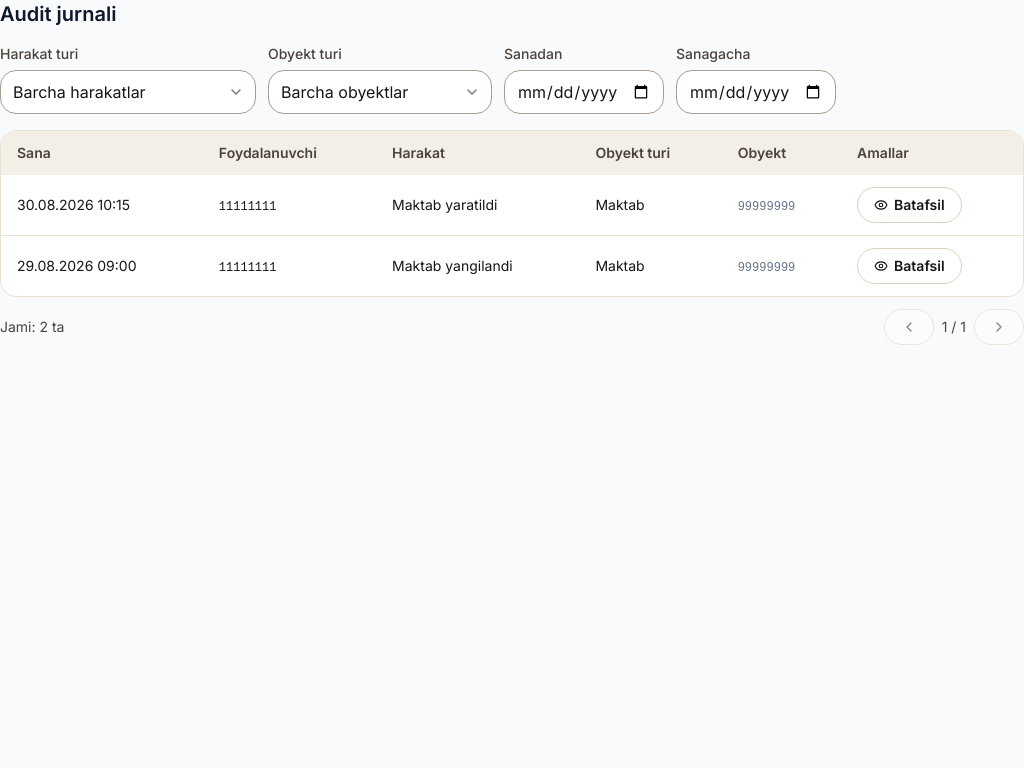
Test: AuditLogPage › 'Batafsil' bosilganda before/after farqi tushunarli shaklda ko'rsatiladi (xom JSON emas)
Note: ENTRY_2 ("Maktab yangilandi") ikkinchi qatorda — bittasini bosamiz, ikkalasi ham diff'ga ega.
Click the button "Batafsil" in the row of "29.08.2026 09:00" at (909, 266), box [857,248,962,284]
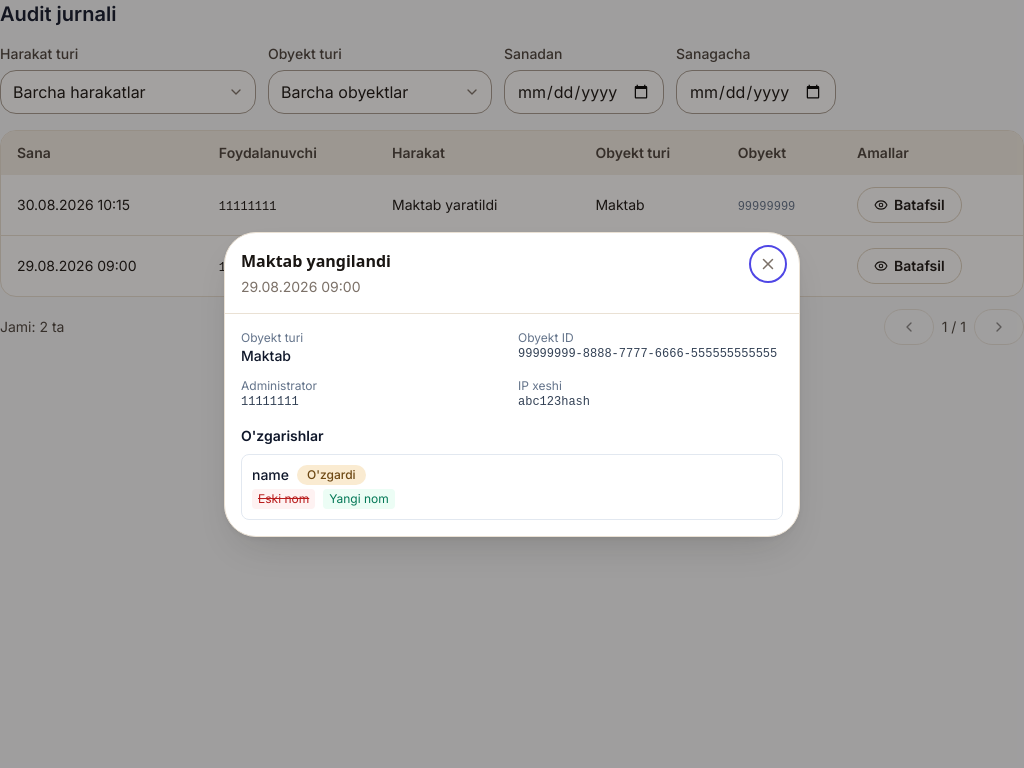
Result: the text "name" is shown at [252,464,289,484]
Result: the text "Eski nom" is shown at [252,488,315,508]
Result: the text "Yangi nom" is shown at [323,488,395,508]
